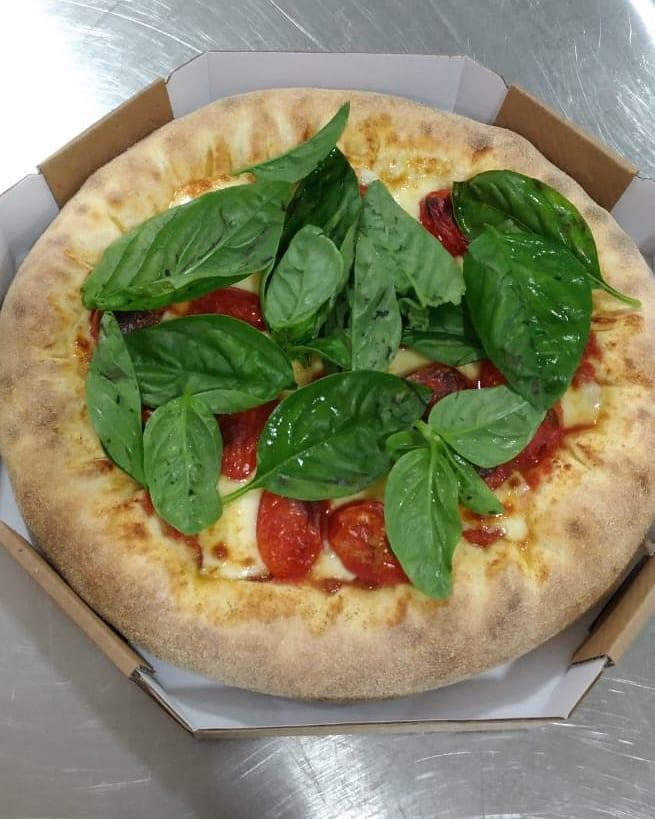Basil: (78, 182, 297, 310), (471, 227, 601, 409), (252, 380, 431, 491), (455, 170, 603, 284), (121, 310, 292, 408), (359, 180, 465, 305), (139, 393, 224, 537), (388, 446, 457, 601), (425, 384, 552, 467), (83, 310, 139, 489), (234, 100, 354, 181), (291, 300, 404, 375), (265, 231, 343, 337), (422, 424, 503, 518)
Pizza: (0, 74, 655, 701)
Tomatoes: (482, 357, 568, 480), (327, 504, 414, 587), (259, 487, 326, 590), (217, 400, 280, 482), (190, 283, 269, 333), (420, 184, 471, 258), (92, 299, 169, 338), (407, 364, 466, 402)
